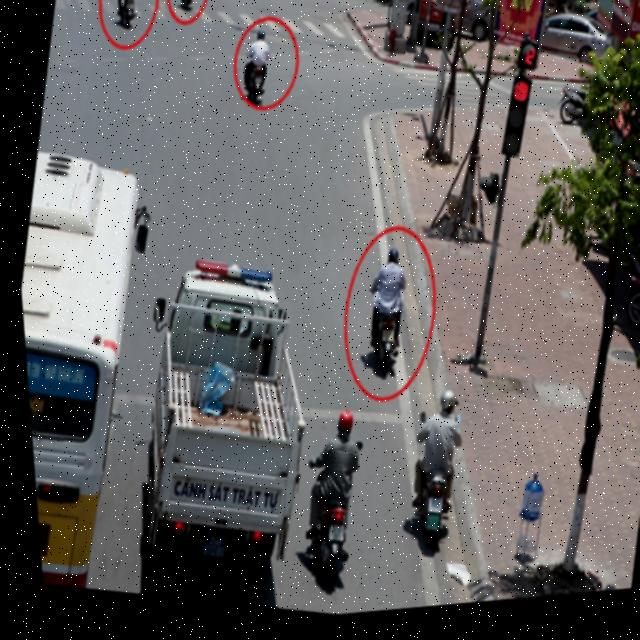Red: (500, 46, 539, 163)
